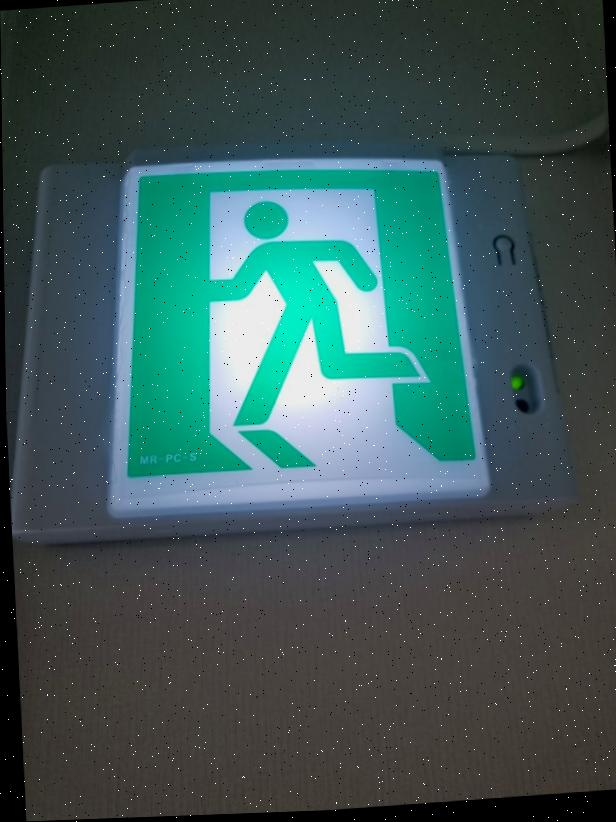emergency_exit: (108, 157, 493, 518)
